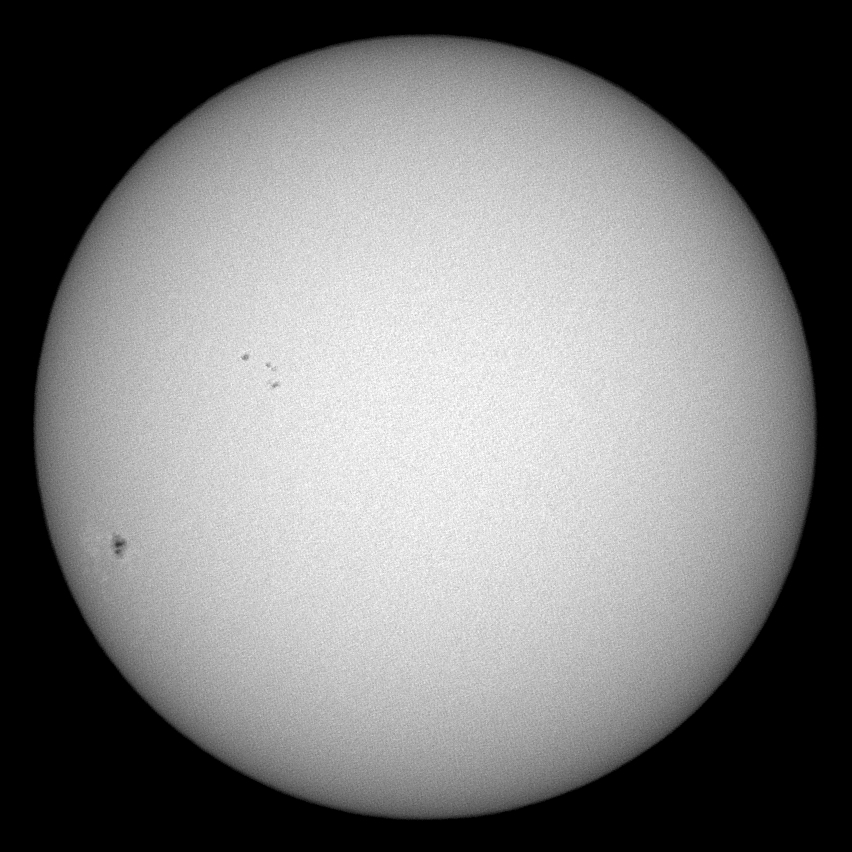sunspot: (240, 349, 284, 393), (107, 528, 131, 563)
